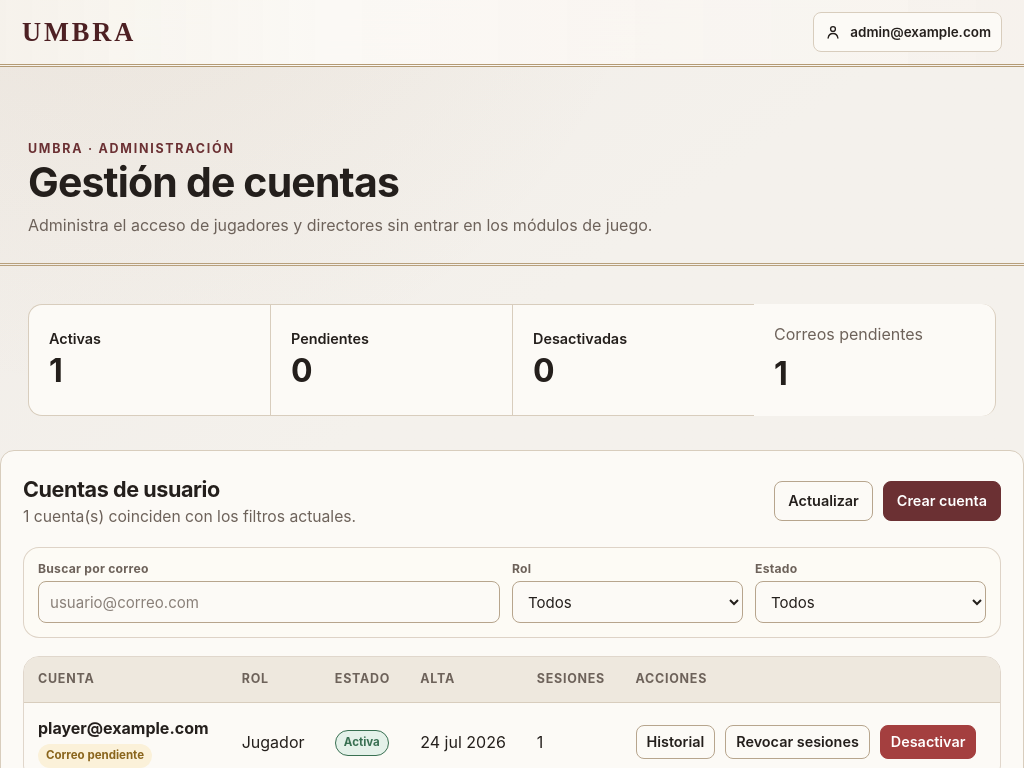
SuperAdminDashboardView › opens the per-user audit drawer
Click the button "Historial" at (675, 742), box [636, 725, 715, 759]
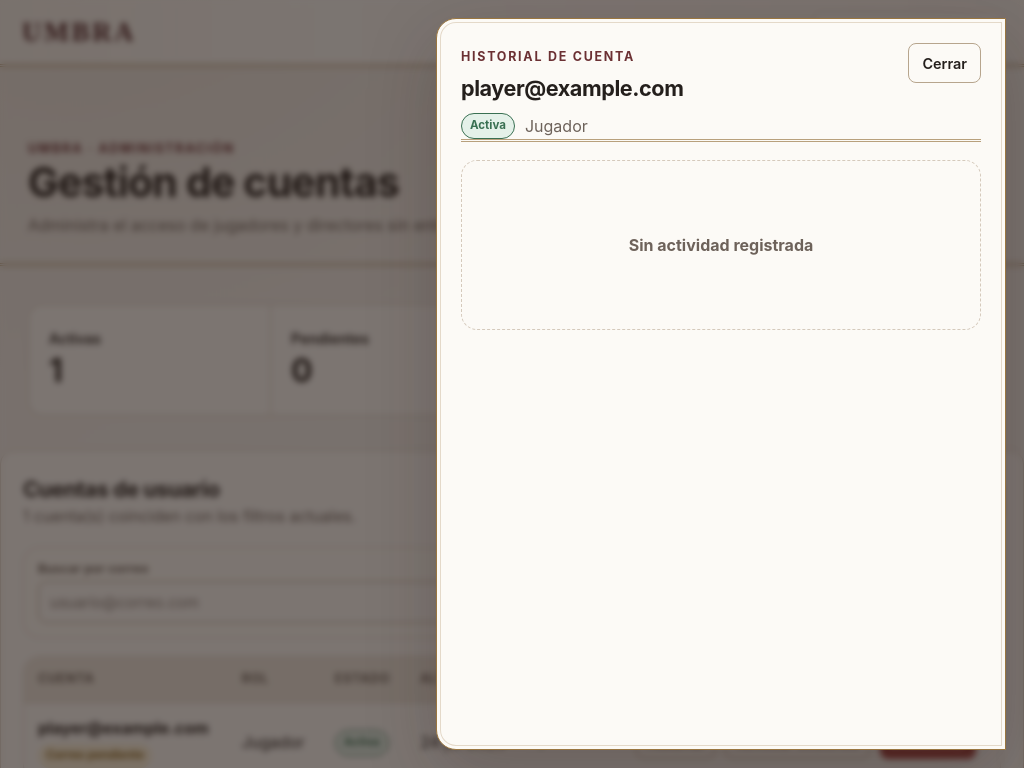
Now the dialog "player@example.com" is shown, box [436, 18, 1006, 750]
